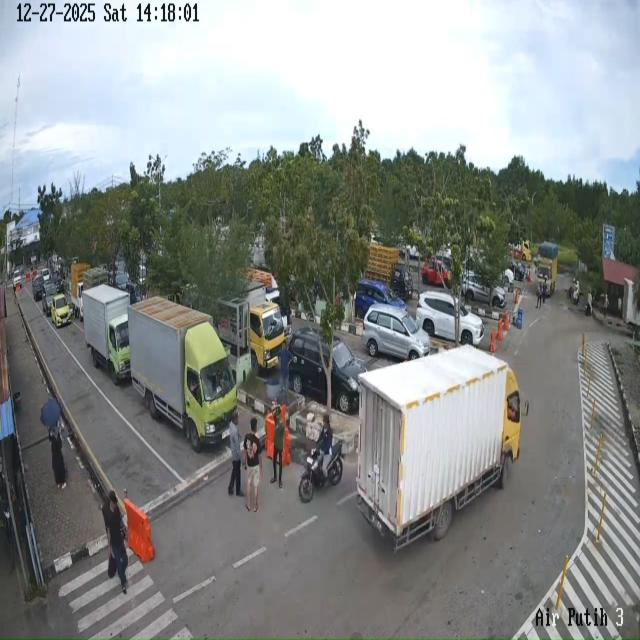Golongan IVA: (288, 327, 367, 413), (362, 305, 431, 360), (416, 291, 484, 346), (355, 279, 406, 320), (462, 272, 506, 308), (50, 294, 72, 328), (41, 281, 60, 316), (32, 274, 45, 302)
Golongan IVB: (69, 263, 91, 321)
Golongan VB: (357, 345, 528, 550), (128, 297, 237, 452), (83, 272, 130, 385), (536, 242, 558, 295)
